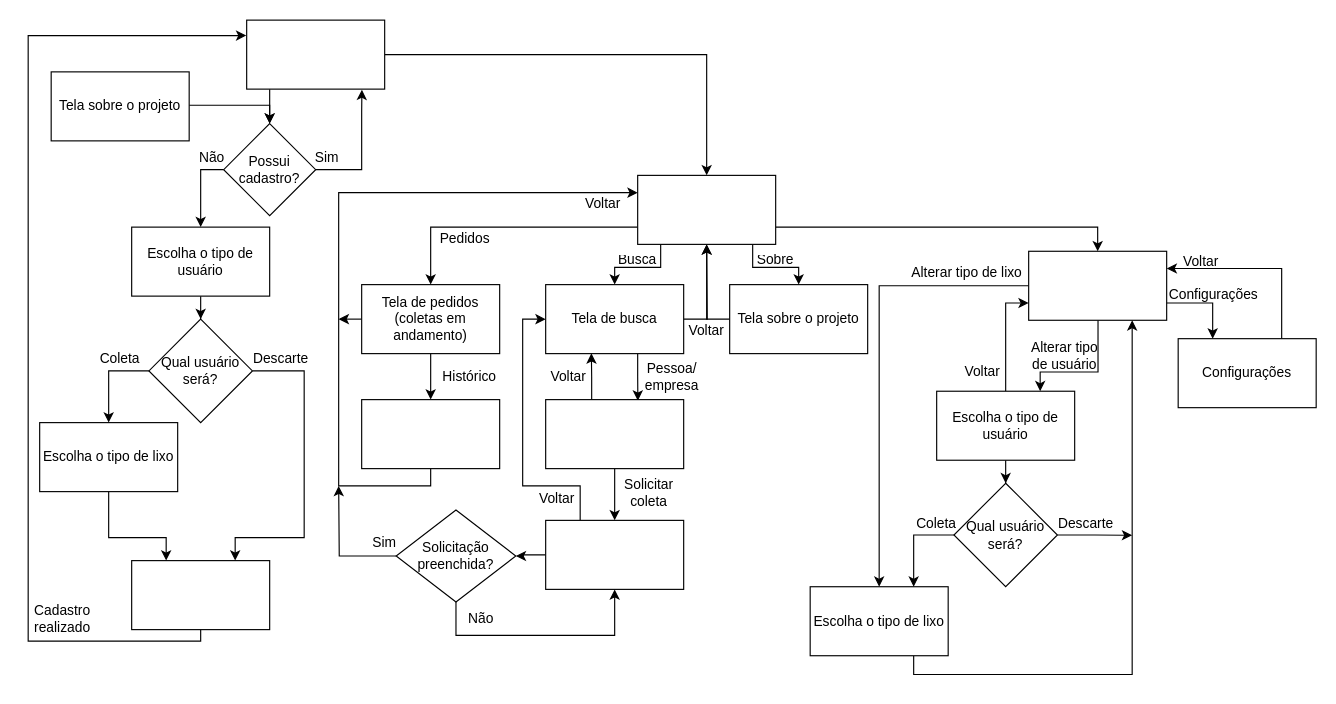
This 1336x704 diagram has some shape labels left out. The shapes that lost their labels are listed below. From the top down, each one's box as (x1, y1, x2, y2) in pixels, then its label:
(246, 19, 385, 89): Login
(637, 174, 776, 244): Tela de início(tutorial)
(1028, 250, 1167, 320): Tela de perfil
(361, 398, 500, 469): Tela de histórico de coletas
(545, 398, 684, 469): Informações da pessoa/empresa
(545, 519, 684, 589): Formulário de coleta
(131, 559, 270, 630): Cadastro
